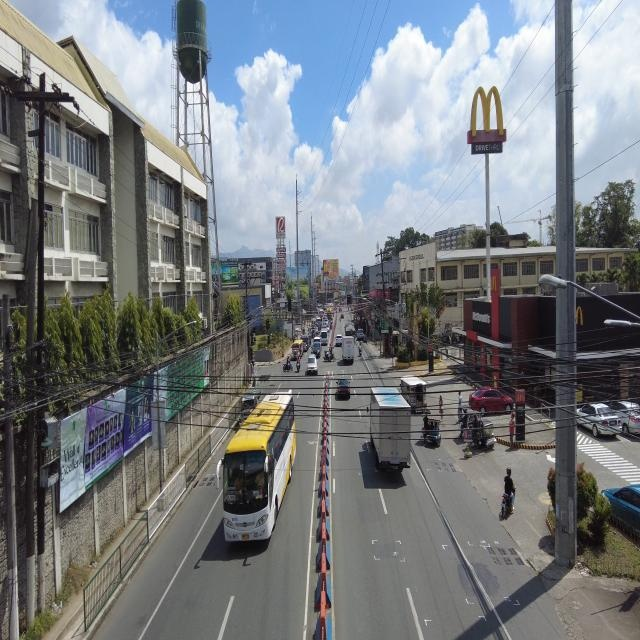Bus: (215, 389, 311, 542)
Motorcycle: (496, 470, 521, 526)
Truck: (368, 387, 416, 478)
